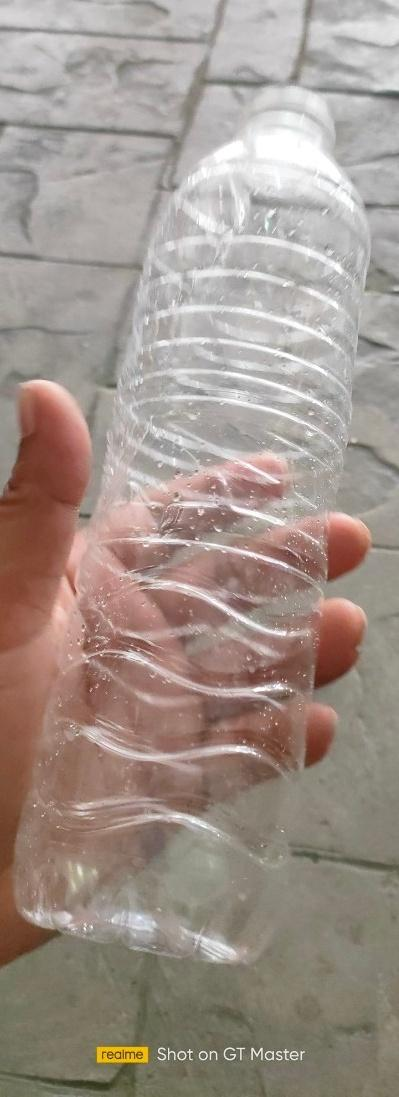plastic_bottle: (12, 87, 372, 962)
